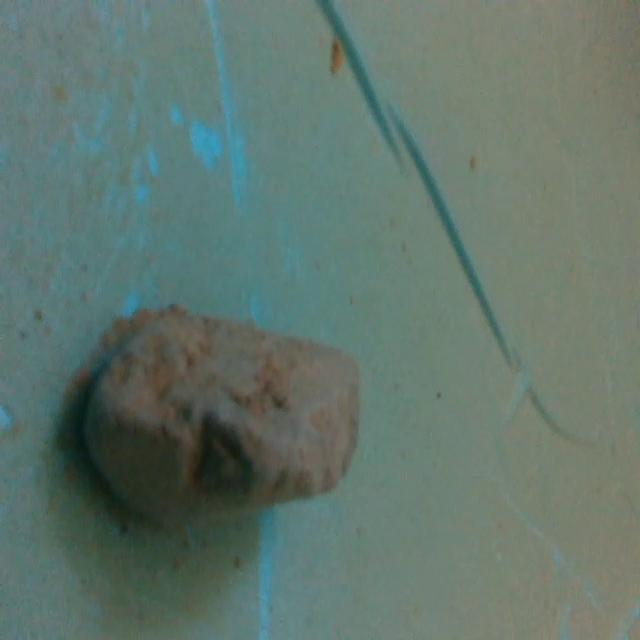rock: (72, 300, 365, 529)
